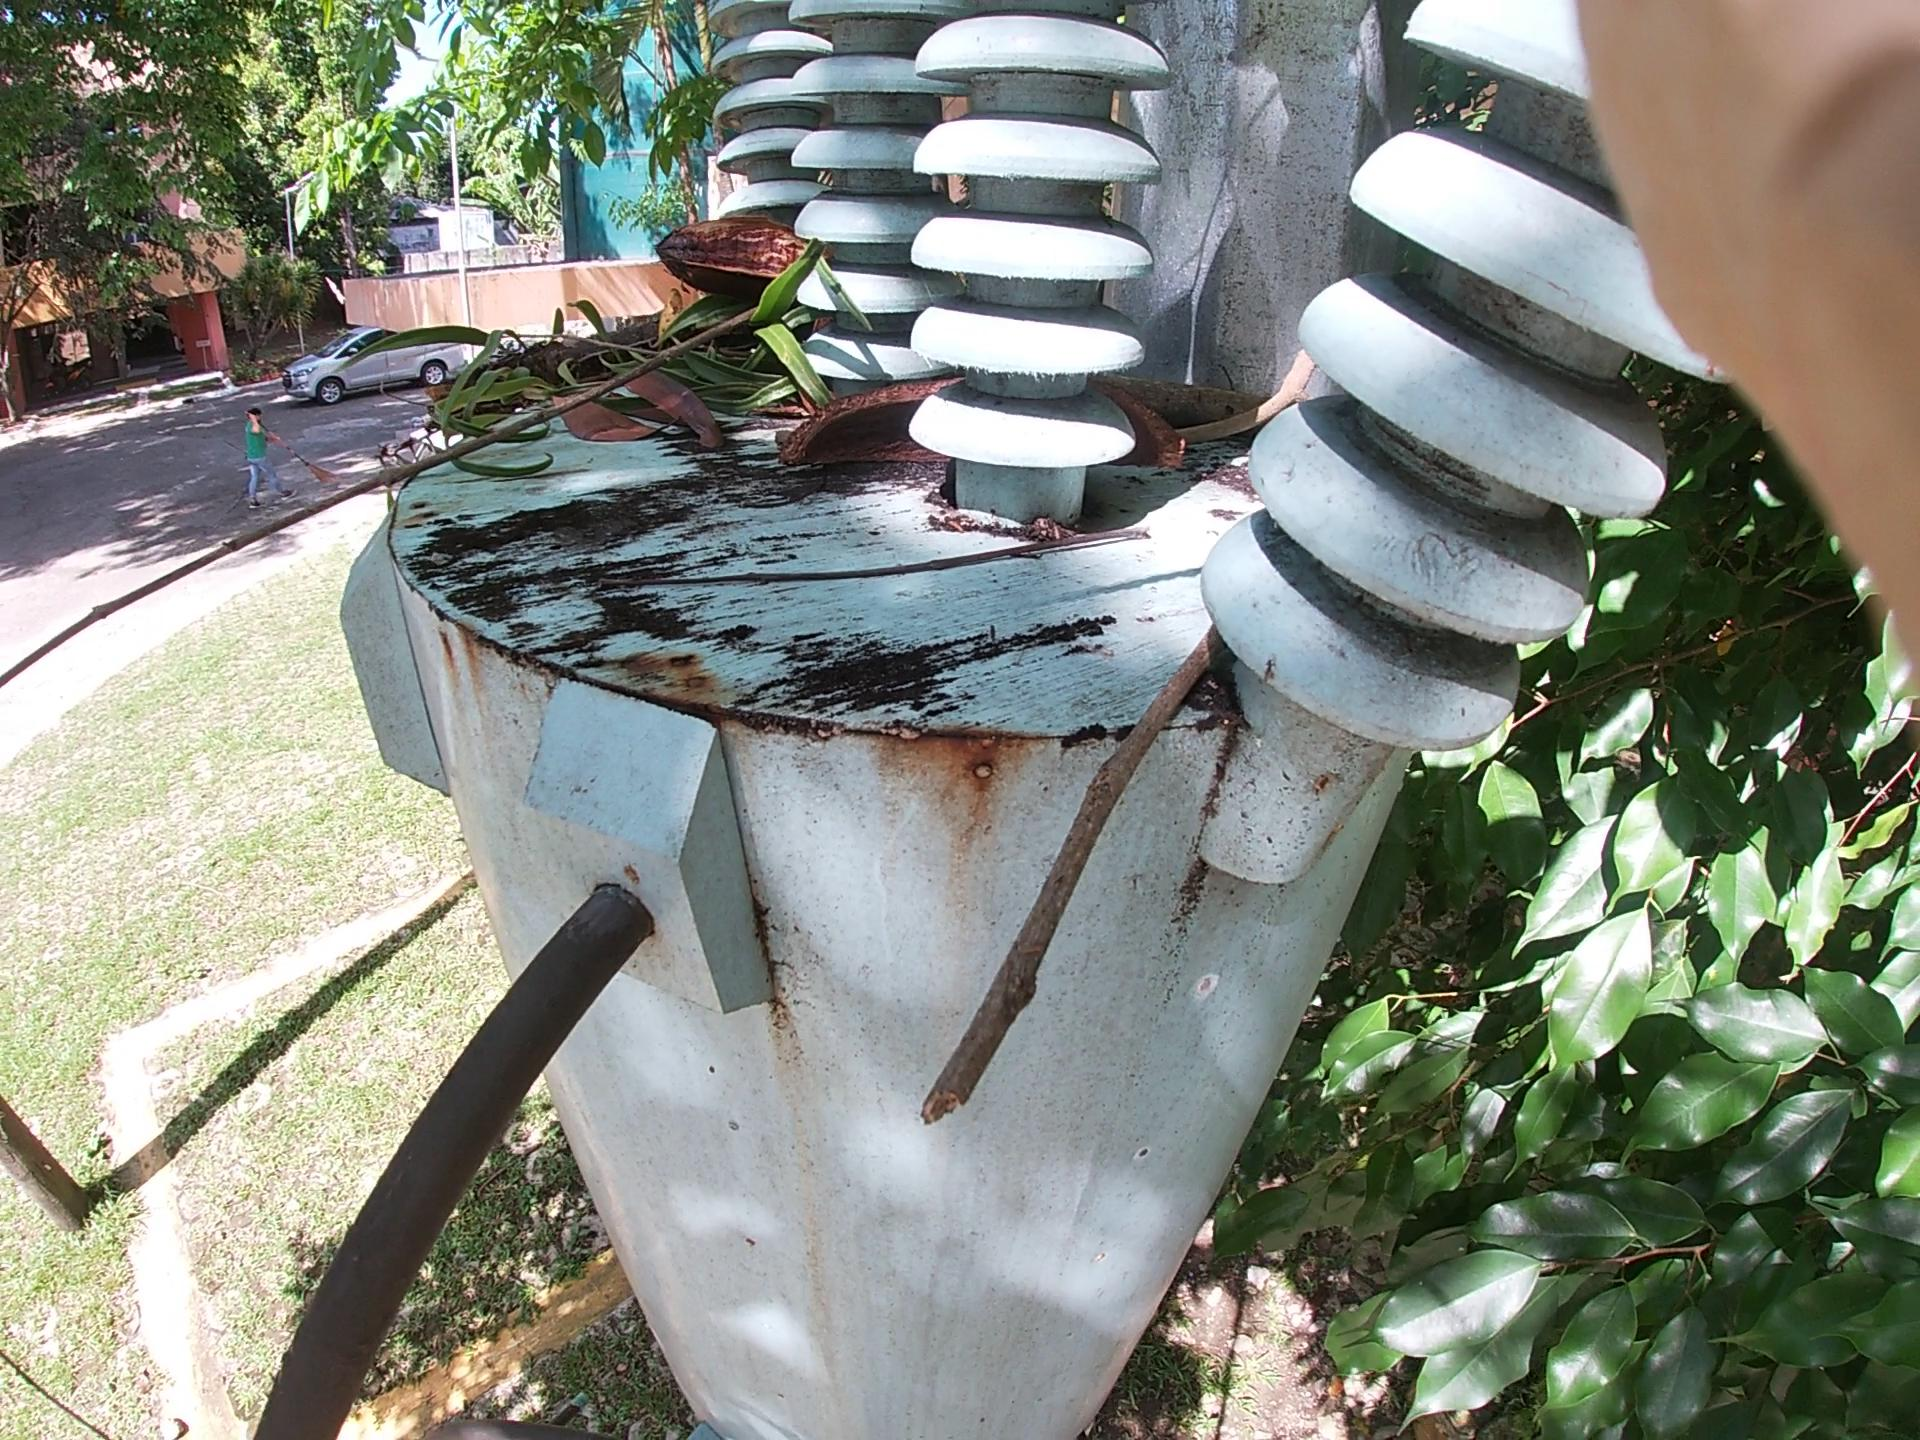branch with leaves: (293, 280, 736, 431)
leaf: (482, 289, 720, 523)
mahogany fruit: (770, 315, 1057, 537), (624, 197, 887, 333)
tree branch: (88, 206, 862, 591), (930, 460, 1314, 1109), (485, 507, 1185, 573), (1114, 374, 1587, 433)
